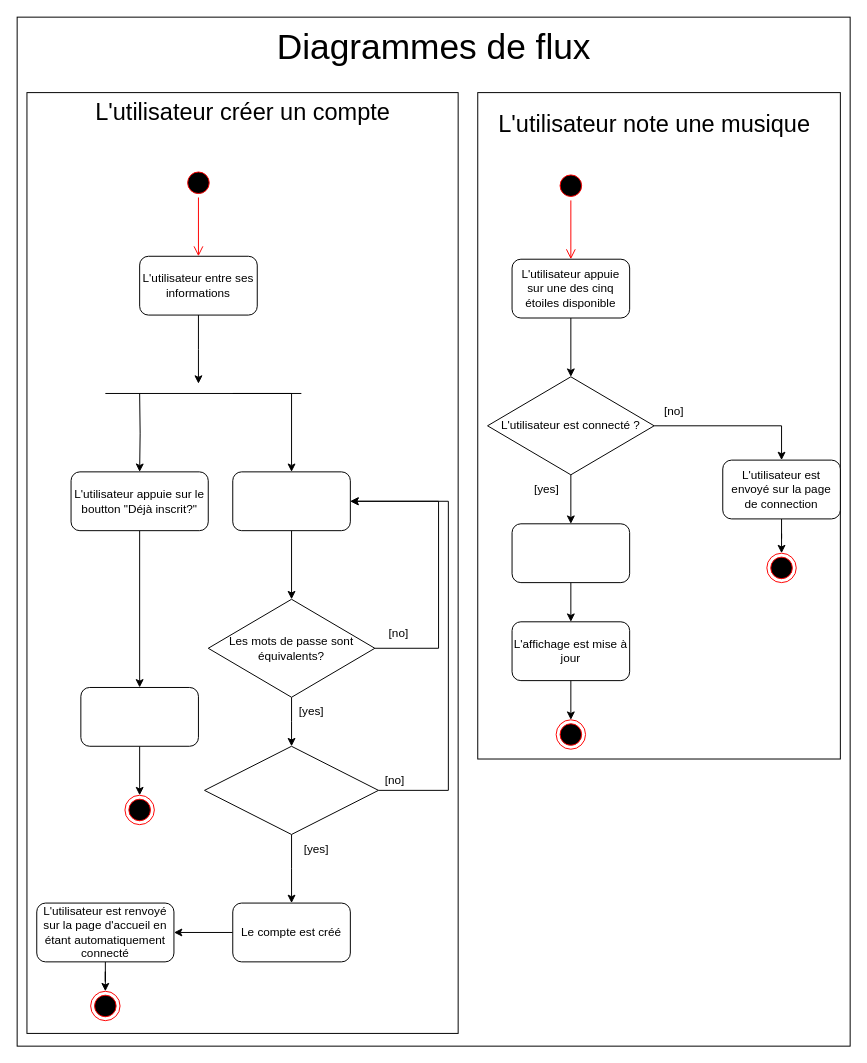
This 867x1063 diagram has some shape labels left out. Here are the shapes that lost their labels. From the top down, the box of each, then its label:
(232, 471, 350, 531): L'utilisateur appuie sur le boutton"Créer mon compte!"
(511, 523, 630, 583): La note est sauvegardé en BD
(80, 686, 198, 746): Redirection vers la page de connection
(204, 745, 378, 834): Les informations sont dans le bon format ?
